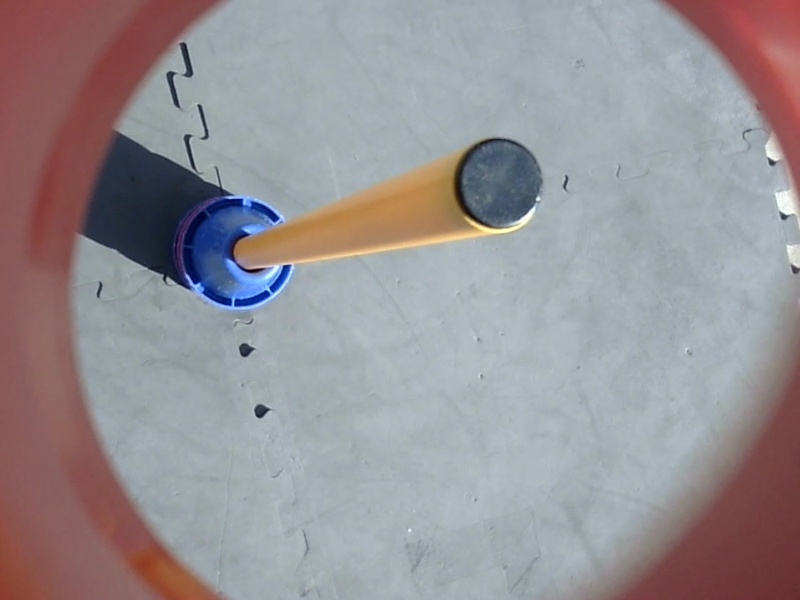tip: (448, 132, 549, 237)
